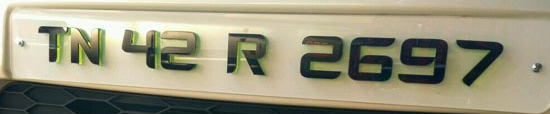2: (299, 33, 345, 81), (159, 26, 204, 75)
4: (119, 28, 160, 70)
6: (348, 34, 396, 84)
7: (453, 38, 507, 89)
9: (396, 34, 452, 86)
N: (68, 25, 106, 68)
R: (225, 27, 269, 80)
T: (34, 25, 69, 65)
